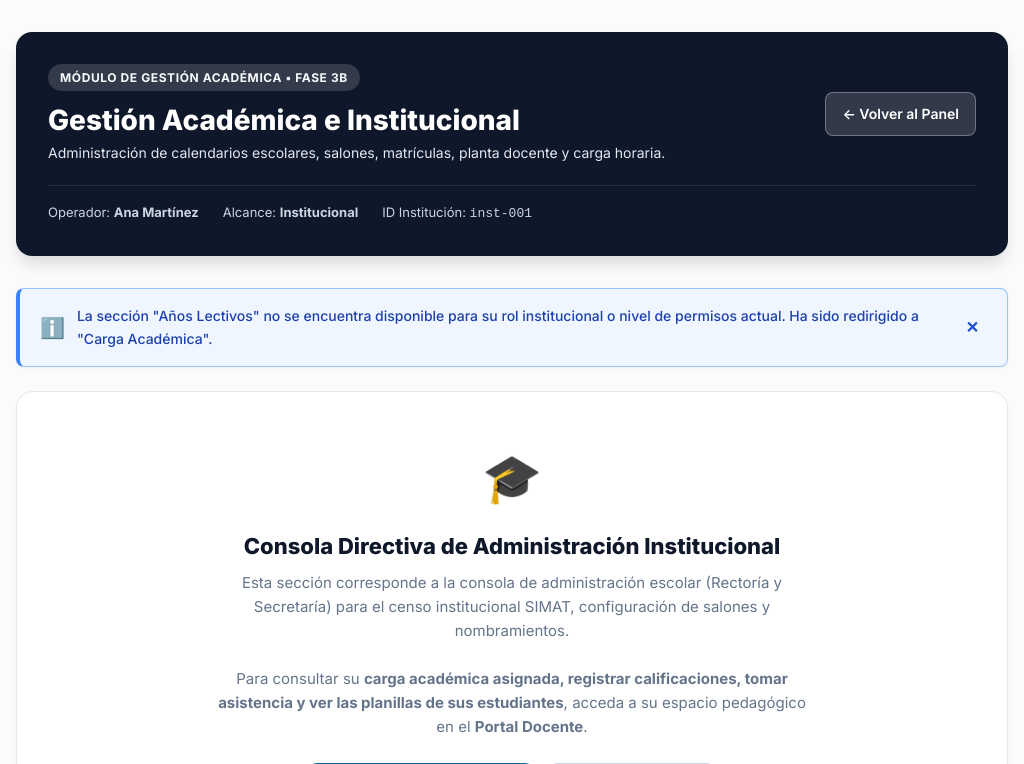
Academic Management Views › renders unauthorized notice banner when navigating directly to a restricted tab
This screenshot has width=1024, height=764.
Check: the message is shown, box [16,288,1008,367]
Check: the text "La sección \"Años Lectivos\" no se encuentra disponible para su rol" is shown, box [77,307,919,347]
// Dismiss notice banner
Click the button named "Cerrar notificación".
click(972, 328)  # box [958,306,987,350]
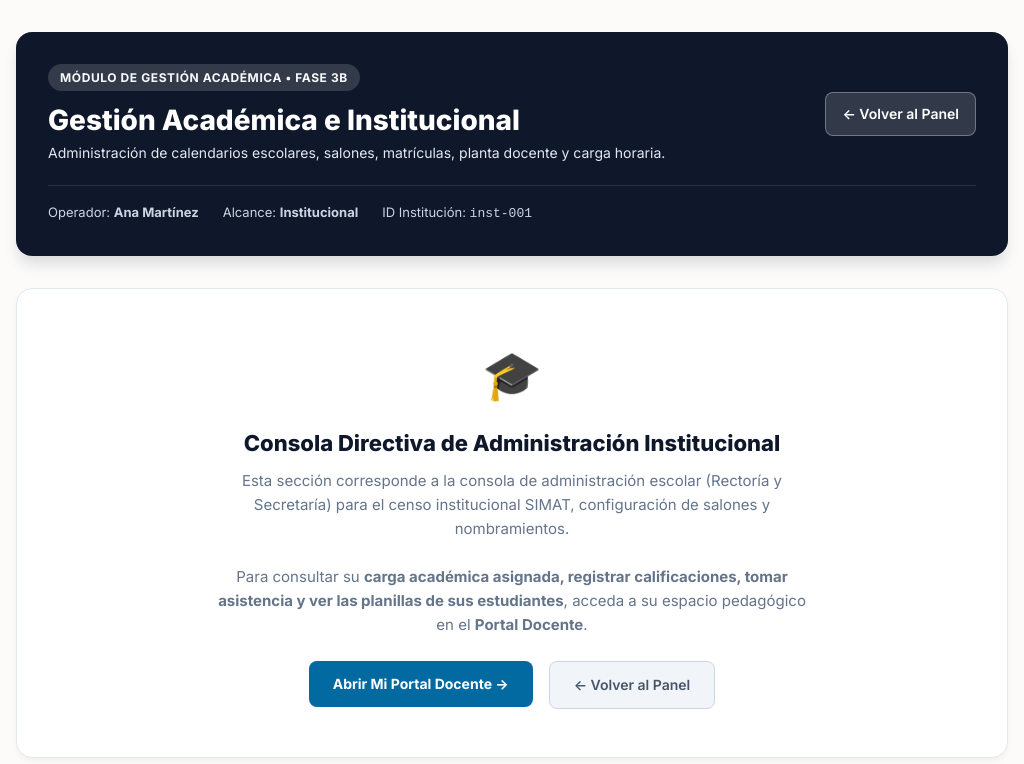
Check: the message is gone
